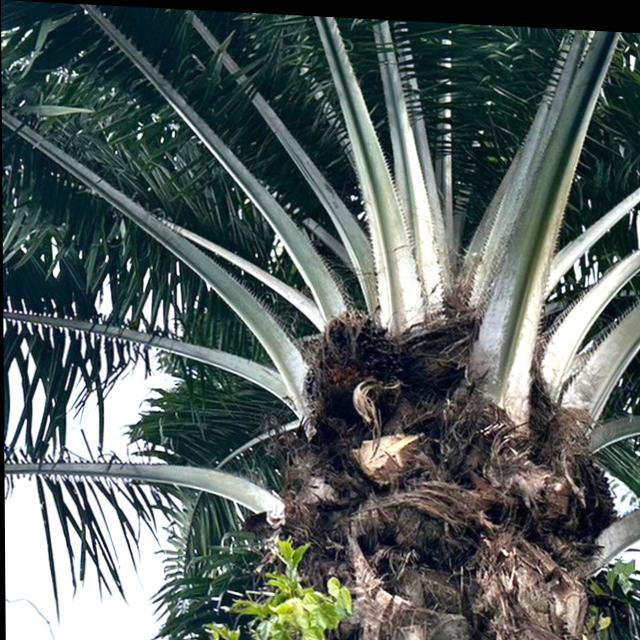almost: (299, 302, 404, 416)
